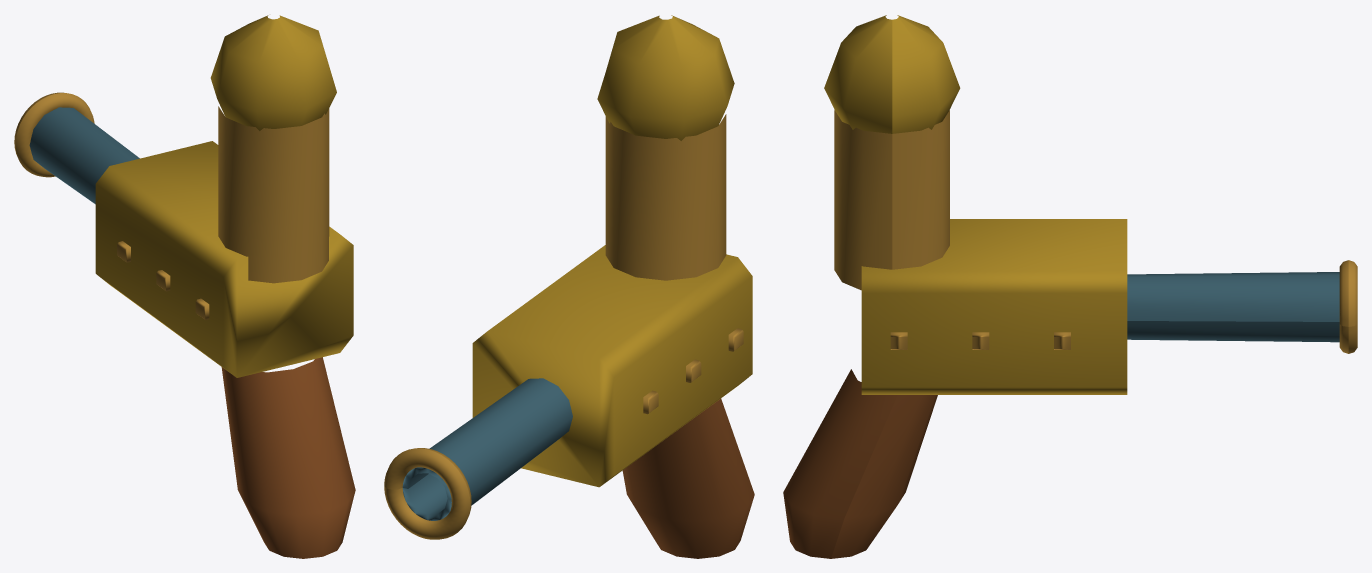
The model's file is weapon_lightning.glb.
The picture shows the model from 3 angles, left to right: view 1: azimuth 30°, elevation 25°; view 2: azimuth 150°, elevation 25°; view 3: azimuth 270°, elevation 25°; orthographic projection. The views are drawn at different scales.
Visible parts, largest first — view 1: ShapedReceiver, Grip, Tank, TankCharge, HollowBarrel0, BarrelCuff0; view 2: ShapedReceiver, Tank, Grip, TankCharge, HollowBarrel0, BarrelCuff0; view 3: ShapedReceiver, Grip, Tank, HollowBarrel0, TankCharge, BarrelCuff0.
Boxes of the visible parts, x1=… form: ShapedReceiver: x1=95, y1=141, x2=353, y2=377; Grip: x1=221, y1=357, x2=355, y2=558; Tank: x1=218, y1=106, x2=329, y2=283; TankCharge: x1=210, y1=15, x2=336, y2=130; HollowBarrel0: x1=29, y1=107, x2=139, y2=204; BarrelCuff0: x1=14, y1=92, x2=94, y2=177; ShapedReceiver: x1=472, y1=245, x2=752, y2=487; Tank: x1=605, y1=114, x2=726, y2=280; Grip: x1=622, y1=398, x2=754, y2=558; TankCharge: x1=597, y1=15, x2=734, y2=140; HollowBarrel0: x1=402, y1=378, x2=572, y2=520; BarrelCuff0: x1=384, y1=448, x2=471, y2=539; ShapedReceiver: x1=861, y1=219, x2=1127, y2=394; Grip: x1=783, y1=369, x2=937, y2=558; Tank: x1=834, y1=110, x2=949, y2=290; HollowBarrel0: x1=1127, y1=272, x2=1339, y2=342; TankCharge: x1=824, y1=15, x2=960, y2=133; BarrelCuff0: x1=1339, y1=260, x2=1357, y2=353.
Size of the model in its own units: 0.25 by 0.85 by 0.8433.
